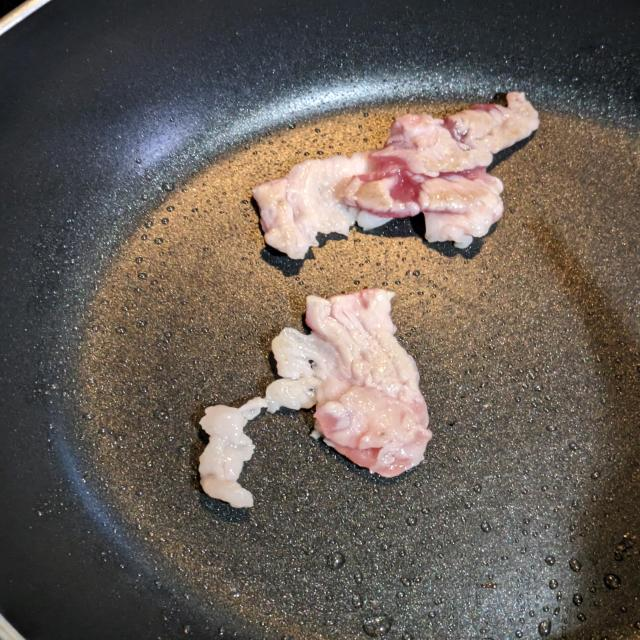NG undercooked pork,: (239, 74, 549, 270), (193, 284, 450, 516)
